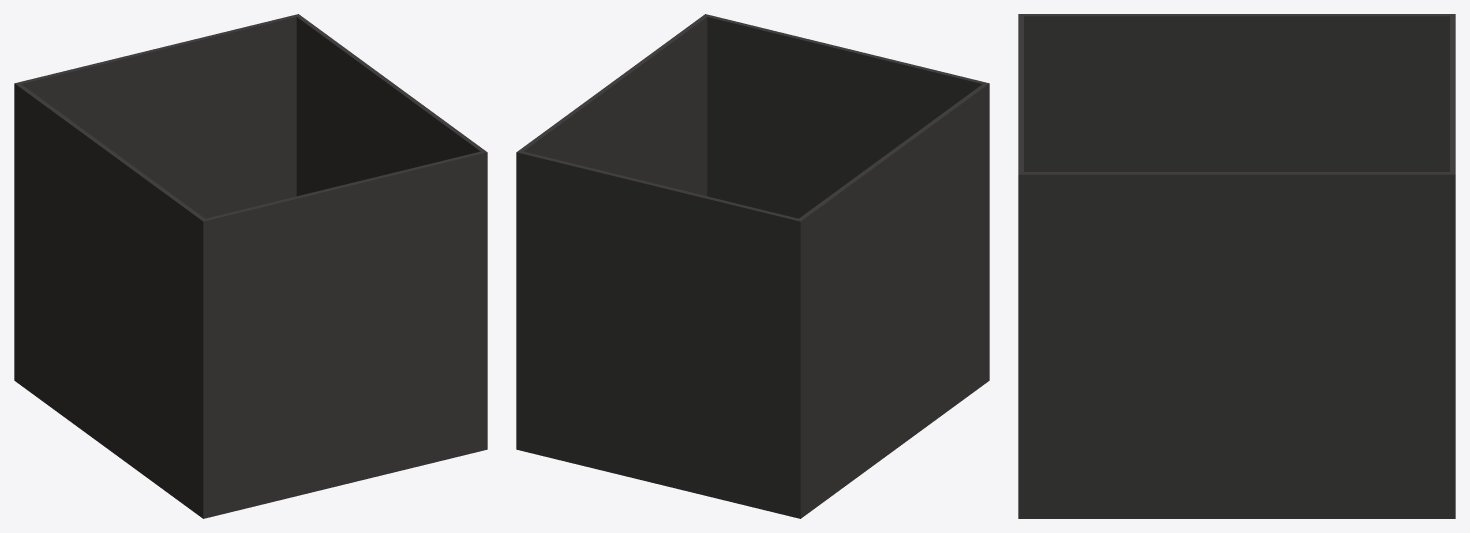
Rendered from ikea_DRONA_black.glb.
3 renders of one model, left to right at view 1: azimuth 30°, elevation 25°; view 2: azimuth 150°, elevation 25°; view 3: azimuth 270°, elevation 25°, orthographic. The views are drawn at different scales.
Visible parts, largest first — view 1: $ColladaAutoName$_0; view 2: $ColladaAutoName$_0; view 3: $ColladaAutoName$_0.
Part boxes in pixels (x1,y1,x2,y2): $ColladaAutoName$_0: [14, 14, 487, 518]; $ColladaAutoName$_0: [516, 14, 989, 518]; $ColladaAutoName$_0: [1018, 14, 1455, 518].
Bounding box in the file's own units: 0.33 × 0.33 × 0.38.
Materials: 2 (1 with a texture image).
